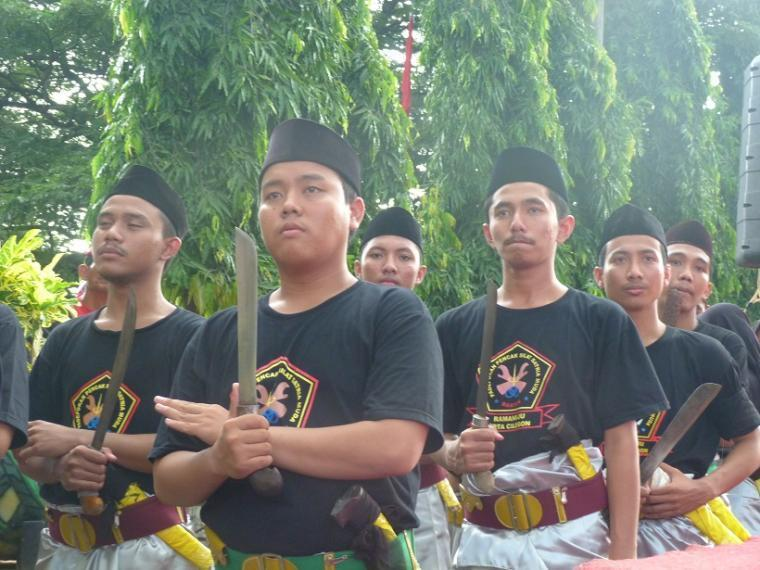facao: (210, 214, 308, 514), (77, 279, 156, 541), (623, 352, 734, 532), (462, 269, 509, 538)
